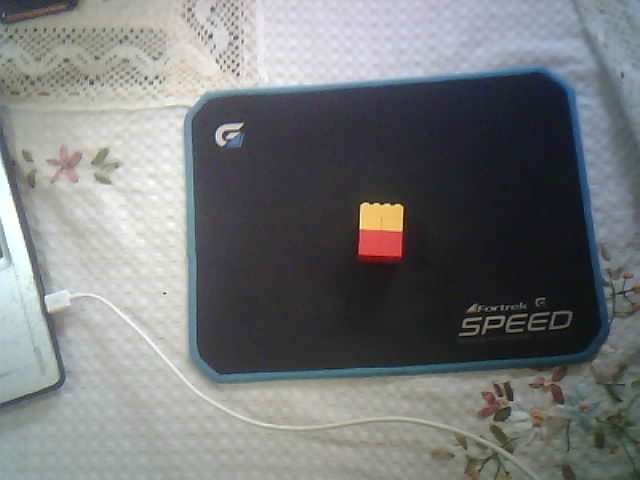lego: (356, 201, 404, 263)
